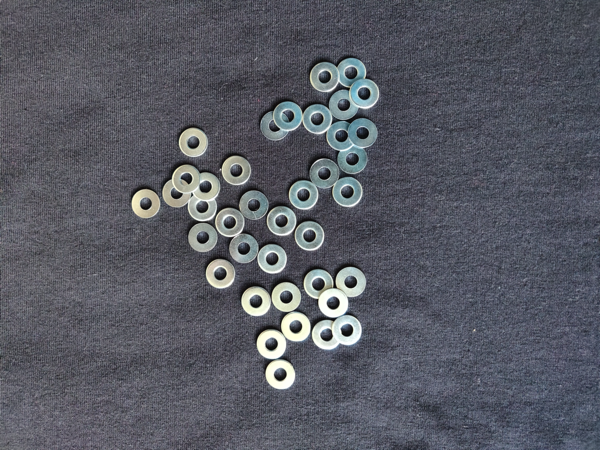circle: (203, 257, 240, 290), (264, 360, 301, 392), (324, 120, 359, 153), (334, 59, 371, 90), (130, 186, 162, 221), (220, 155, 253, 188), (307, 157, 340, 190), (187, 221, 220, 254), (347, 78, 381, 110), (304, 268, 335, 303), (214, 206, 246, 239), (318, 288, 351, 320), (255, 328, 288, 360), (273, 99, 304, 133), (336, 145, 370, 176), (240, 189, 271, 223), (178, 127, 210, 159), (255, 244, 287, 276), (240, 286, 272, 318), (335, 267, 367, 299), (332, 316, 364, 348), (259, 110, 290, 143), (329, 89, 362, 120), (332, 177, 364, 208), (289, 179, 321, 210), (266, 207, 298, 238), (295, 221, 327, 252), (170, 163, 202, 194), (271, 281, 302, 313), (281, 313, 312, 344), (303, 104, 333, 136), (190, 169, 222, 199), (188, 193, 220, 223), (229, 232, 259, 264), (312, 320, 342, 352), (161, 179, 192, 209), (310, 63, 342, 92), (349, 119, 380, 148)
